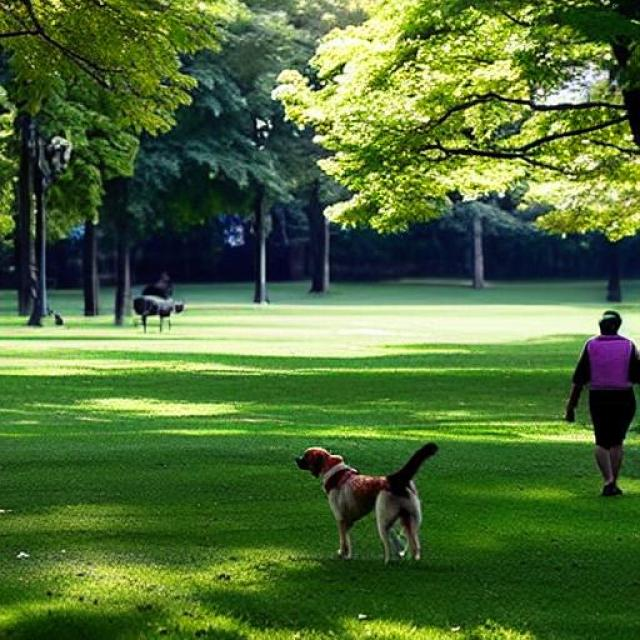Unleashed_Dog: (293, 389, 619, 566)
